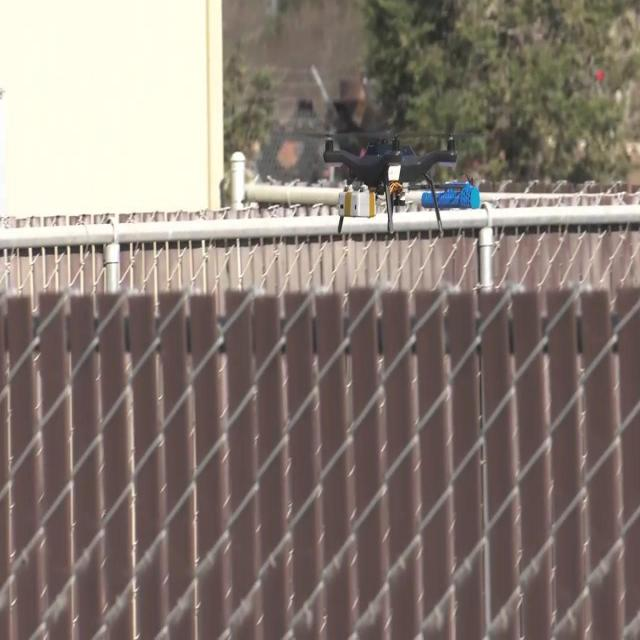UAV: (306, 135, 474, 238)
